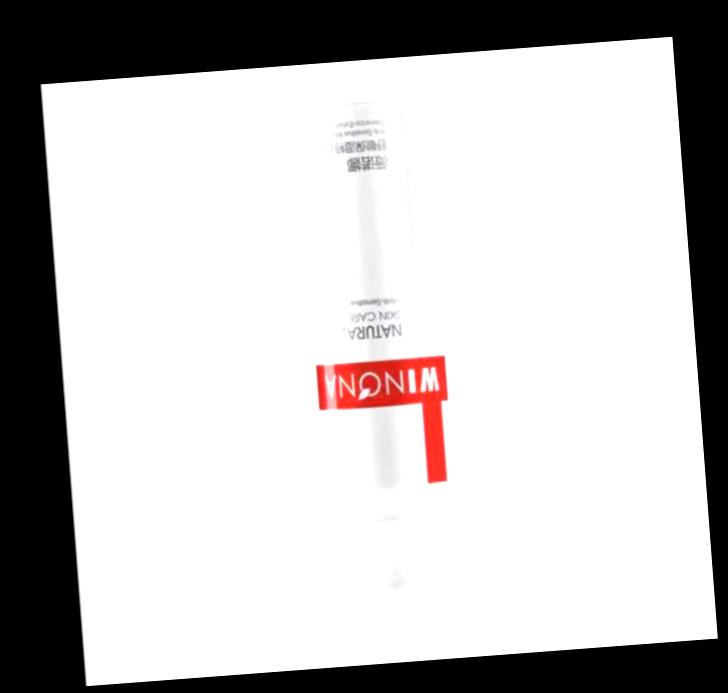cosmetic: (293, 94, 468, 637)
